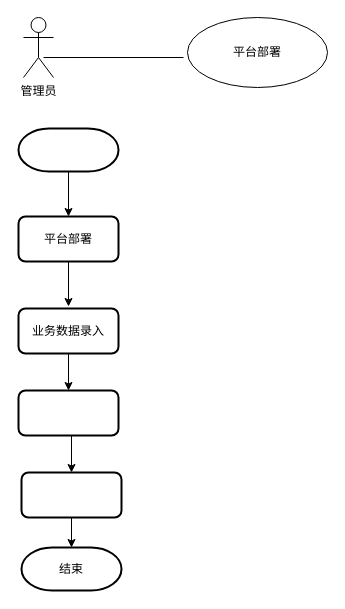
This 345x609 diagram has some shape labels left out. The centre of each missing label's shape, as x and y in pixels:
"功能展示" belongs at (71,494).
"开始" belongs at (68,149).
"用户数据录入" belongs at (68,412).
